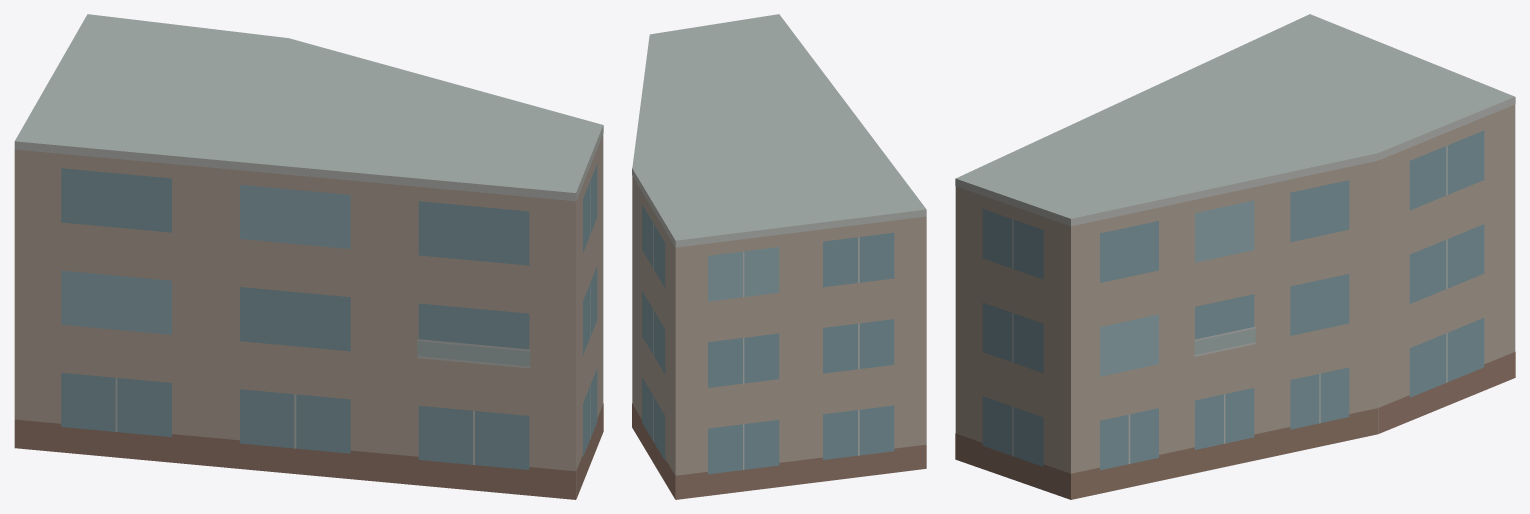
Rendered from survey-upis-32641513.glb.
The picture shows the model from 3 angles, left to right: view 1: azimuth 30°, elevation 25°; view 2: azimuth 150°, elevation 25°; view 3: azimuth 270°, elevation 25°; orthographic projection. The views are drawn at different scales.
Visible parts, largest first — view 1: survey-upis-32641513.tmp; view 2: survey-upis-32641513.tmp; view 3: survey-upis-32641513.tmp.
Boxes of the visible parts, x1,y1,x2,y2 form: survey-upis-32641513.tmp: (14,14,603,499); survey-upis-32641513.tmp: (632,14,926,499); survey-upis-32641513.tmp: (955,14,1515,499).
Size of the model in its own units: 14.32 by 9.15 by 16.53.
